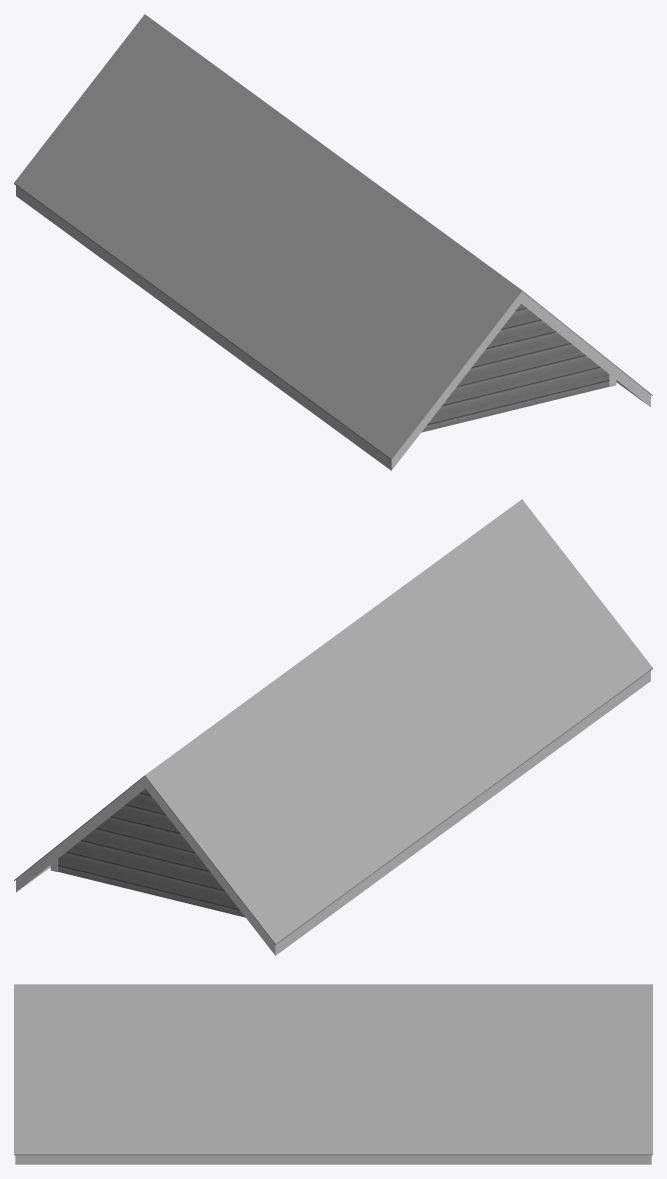
The model's file is gable.glb.
3 renders of one model, top to bottom at view 1: azimuth 30°, elevation 25°; view 2: azimuth 150°, elevation 25°; view 3: azimuth 270°, elevation 25°, orthographic. The views are drawn at different scales.
Visible parts, largest first — view 1: Roof_Top_2, Roof_exterior, Roof_Siding_2; view 2: Roof_Top_2, Roof_exterior, Roof_Siding_2; view 3: Roof_Top_2, Roof_Siding_2.
Boxes of the visible parts, box(x1,y1,x2,y2) form: Roof_Top_2: box(14, 14, 652, 459); Roof_exterior: box(421, 303, 608, 432); Roof_Siding_2: box(16, 186, 650, 470); Roof_Top_2: box(14, 499, 652, 944); Roof_exterior: box(58, 788, 245, 917); Roof_Siding_2: box(16, 671, 650, 955); Roof_Top_2: box(14, 984, 652, 1155); Roof_Siding_2: box(15, 1155, 651, 1164).
Bounding box in the file's own units: 4.38 × 2.4 × 10.95.
7 materials, 2 textured.
